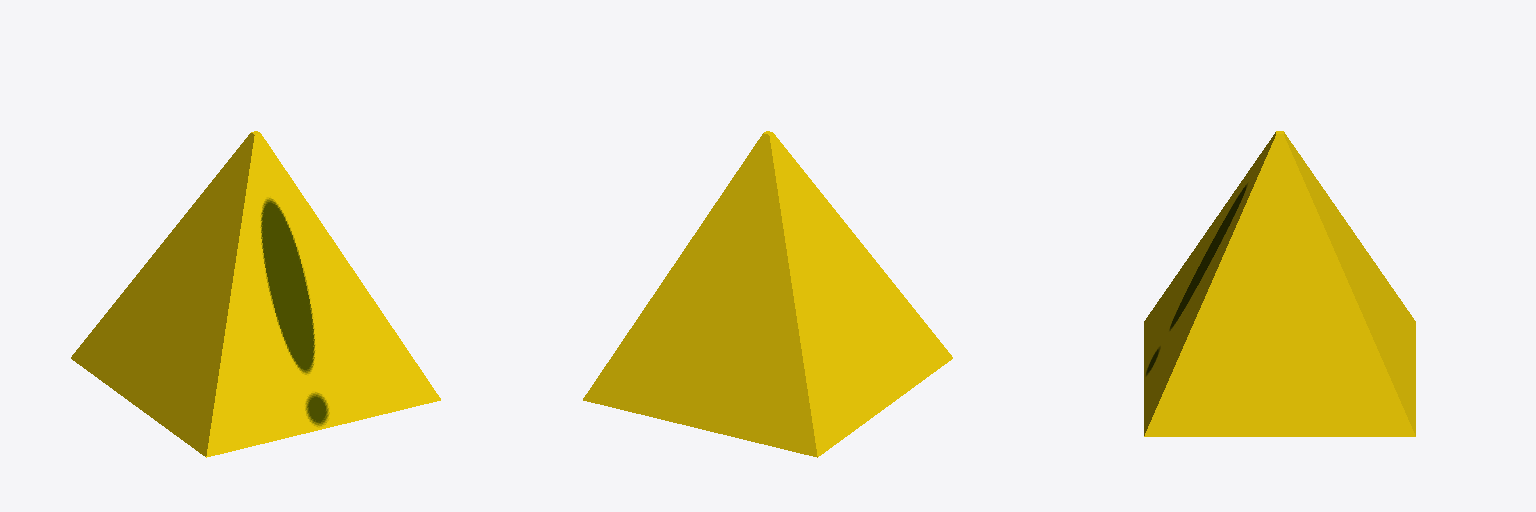
3 renders of one model, left to right at view 1: azimuth 30°, elevation 25°; view 2: azimuth 150°, elevation 25°; view 3: azimuth 270°, elevation 25°, orthographic.
Parts seen in each view (by area): view 1: Cube; view 2: Cube; view 3: Cube.
Boxes of the visible parts, x1=… form: Cube: x1=71, y1=131, x2=440, y2=457; Cube: x1=583, y1=131, x2=952, y2=457; Cube: x1=1144, y1=131, x2=1415, y2=436.
Bounding box in the file's own units: 2 × 2 × 2.
Materials: 1 (1 with a texture image).